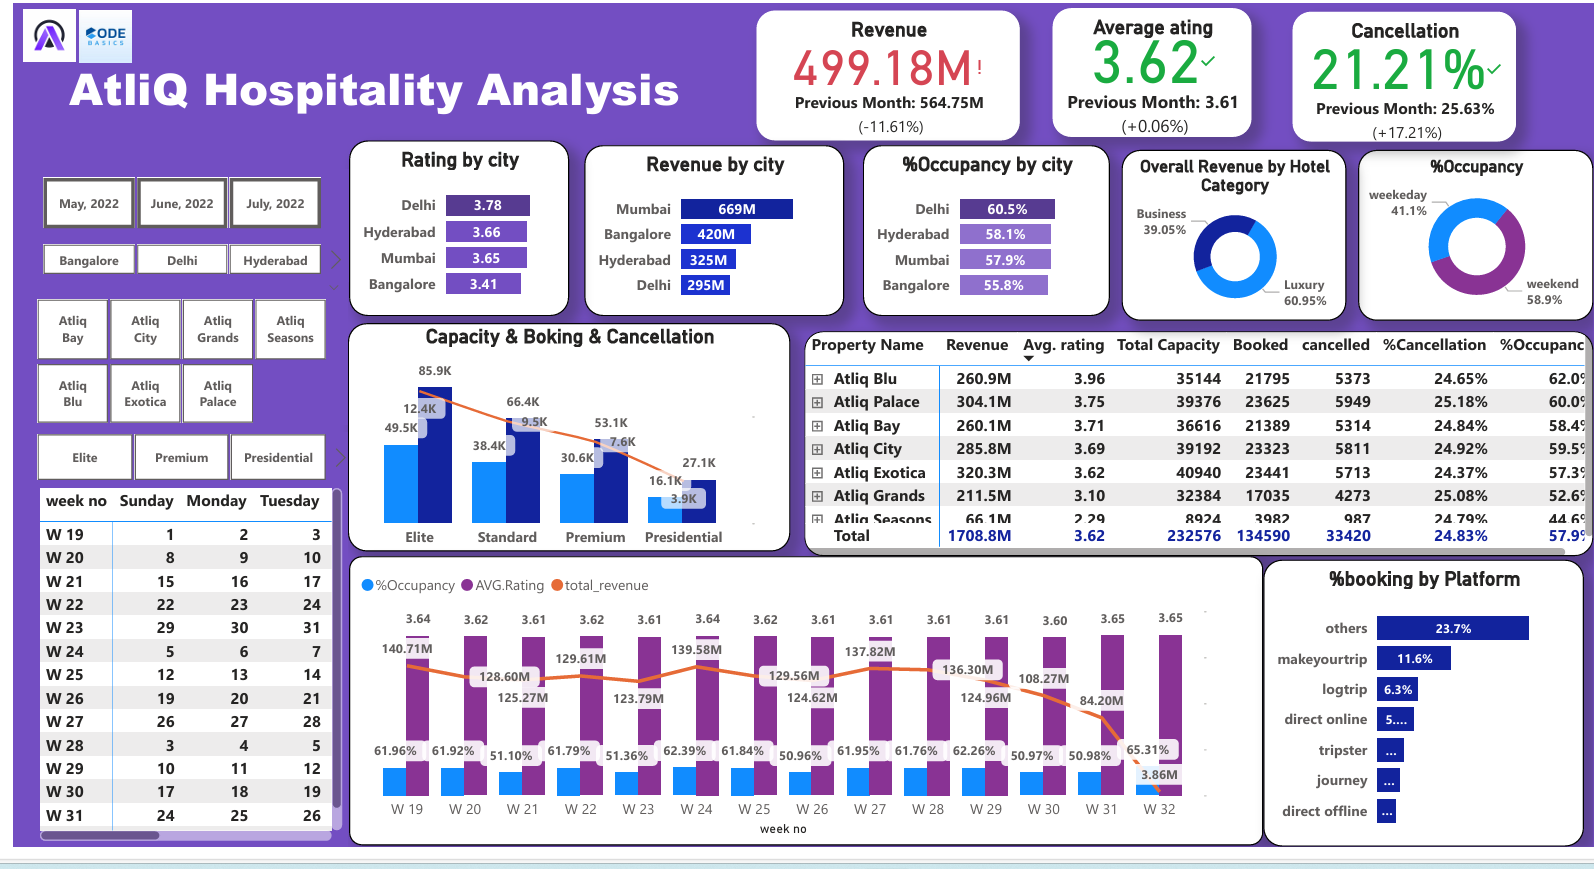

The dashboard page shown, as its layout file describes it:
{"tool":"powerbi","page":{"name":"Page 1","canvas":[1280,720],"ordinal":0},"visuals":[{"type":"kpi","title":"Revenue","fields":{"TrendLine":["dim_date.month_year"],"Goal":["Measure.Total Revenue(PM)"],"Indicator":["Measure.total_revenue"]},"box":[629,1,225,110],"z":0},{"type":"kpi","title":"Average ating","fields":{"Indicator":["Avg(fact_bookings.ratings_given)"],"Goal":["Measure.AVG.rating(PM)"],"TrendLine":["dim_date.month_year"]},"box":[886,1,170,110],"z":1000},{"type":"clusteredBarChart","title":"Revenue by city","fields":{"Y":["Measure.total_revenue"],"Category":["dim_hotels.city"]},"box":[559.8,115.8,222,146],"z":2000},{"type":"clusteredBarChart","fields":{"Category":["dim_hotels.city"],"Y":["Measure.%Occupancy"]},"box":[804.7,115.8,211.1,146],"z":3000},{"type":"clusteredBarChart","title":"Rating by city","fields":{"Category":["dim_hotels.city"],"Y":["Avg(fact_bookings.ratings_given)"]},"box":[320.9,111,232.8,150.8],"z":4000},{"type":"donutChart","title":"%Occupancy","fields":{"Y":["Measure.%Occupancy"],"Category":["dim_date.day_type"]},"box":[1027.9,115.8,252.1,146],"z":5000},{"type":"kpi","title":"Cancellation","fields":{"Indicator":["Measure.%cancellation"],"TrendLine":["dim_date.month_year"],"Goal":["Measure.%Cancellation(PM)"]},"box":[1075,1,192,110],"z":6000},{"type":"lineClusteredColumnComboChart","title":"Capacity & Boking & Cancellation","fields":{"Y":["Measure.Total_booking","Measure.Total_capacity"],"Category":["dim_rooms.room_class"],"Y2":["Measure.total_cancelation"]},"box":[312.2,267.8,377.8,195.6],"z":7000},{"type":"slicer","fields":{"Values":["dim_hotels.property_name"]},"box":[0,237.7,285.9,121.9],"z":8000},{"type":"pivotTable","fields":{"Rows":["dim_hotels.property_name","dim_hotels.city"],"Values":["Measure.total_revenue","Avg(fact_bookings.ratings_given)","Measure.Total_capacity","Measure.Total_booking","Measure.total_cancelation","Measure.%cancellation","Measure.%Occupancy"]},"box":[690.1,272.7,589.9,190.6],"z":9000},{"type":"slicer","fields":{"Values":["dim_hotels.city"]},"box":[0,199.1,287.1,38.6],"z":10000},{"type":"textbox","box":[43.4,7.2,555,103.8],"z":11000},{"type":"slicer","fields":{"Values":["dim_date.month_year"]},"box":[0,142.4,287.1,56.7],"z":13000},{"type":"image","box":[43.4,1.2,71.2,54.3],"z":14000},{"type":"image","box":[0,0,60.6,53.9],"z":15000},{"type":"slicer","fields":{"Values":["dim_rooms.room_class"]},"box":[0,365.6,285.9,43.4],"z":16000},{"type":"lineClusteredColumnComboChart","fields":{"Y":["Measure.%Occupancy","Measure.AVG.Rating"],"Y2":["Measure.total_revenue"],"Category":["dim_date.week no"]},"box":[304.4,473.3,703.3,246.7],"z":17000},{"type":"donutChart","title":"Overall Revenue by Hotel Category","fields":{"Y":["Measure.total_revenue"],"Category":["dim_hotels.category"]},"box":[1015.6,473.3,263.3,246.7],"z":18000},{"type":"pivotTable","fields":{"Columns":["dim_date.day_name"],"Rows":["dim_date.week no"],"Values":["Sum(dim_date.day)"]},"box":[18.1,409,267.8,311.3],"z":19000}]}

Visuals, with their boxes in screenshot pixels (x1, y1, x2, y2):
"Revenue" kpi: 713/14/971/140
"Average ating" kpi: 1007/14/1202/140
"Revenue by city" clusteredBarChart: 633/145/888/313
clusteredBarChart - dim_hotels.city x Measure.%Occupancy: 914/145/1156/313
"Rating by city" clusteredBarChart: 360/140/626/313
"%Occupancy" donutChart: 1170/145/1459/313
"Cancellation" kpi: 1224/14/1444/140
"Capacity & Boking & Cancellation" lineClusteredColumnComboChart: 350/319/783/544
slicer - dim_hotels.property_name: 0/285/319/425
pivotTable - dim_hotels.property_name x dim_hotels.city: 783/325/1459/543
slicer - dim_hotels.city: 0/241/321/285
textbox: 41/21/678/140
slicer - dim_date.month_year: 0/176/321/241
image: 41/14/123/76
image: 0/12/61/74
slicer - dim_rooms.room_class: 0/431/319/481
lineClusteredColumnComboChart - Measure.%Occupancy x Measure.AVG.Rating: 341/555/1147/838
"Overall Revenue by Hotel Category" donutChart: 1156/555/1458/838
pivotTable - dim_date.day_name x dim_date.week no: 12/481/319/838
